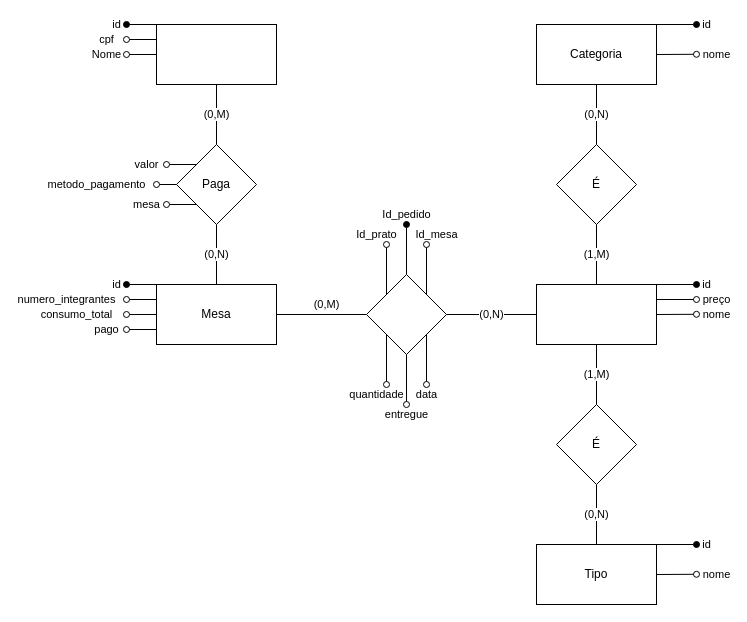
Image size: 747x622. Some labels were removed from this diagram. The shapes that lost their labels are listed below. From the top down, each one's centre as x and y in pixels, then its label:
At point 216,54: "Cliente".
At point 406,314: "Pedido".
At point 596,314: "Prato".
